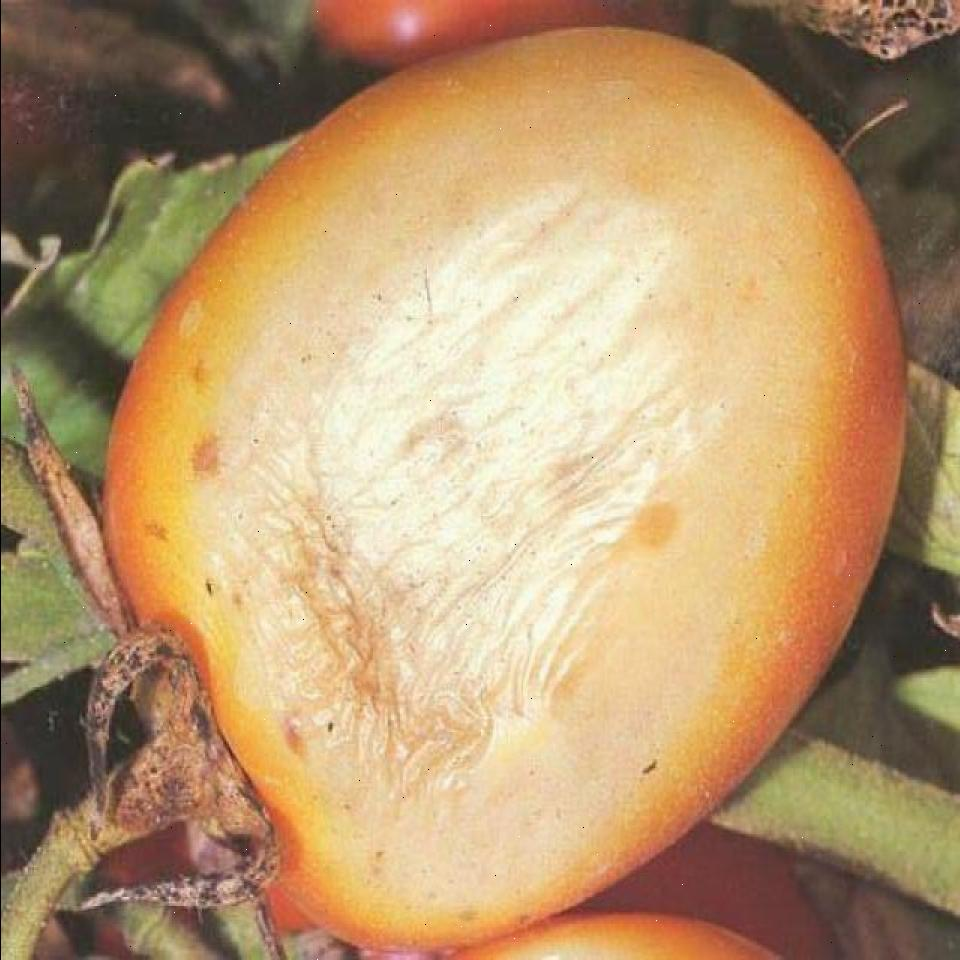Sunscald: (187, 174, 833, 764)
